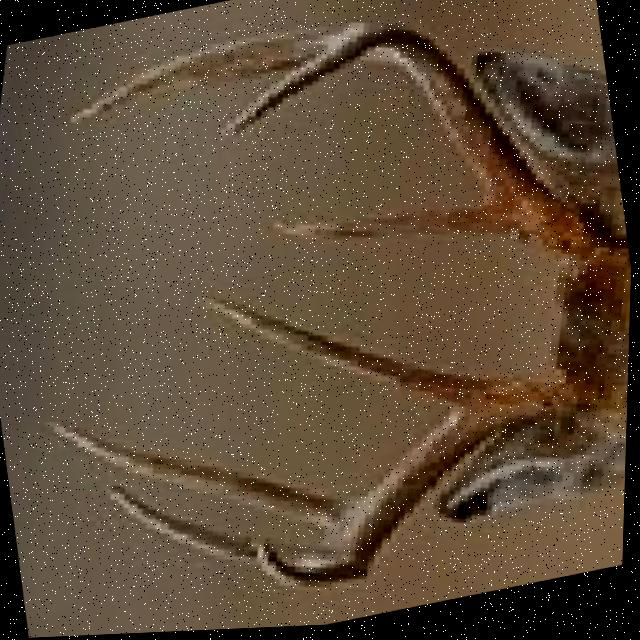L-F: (220, 27, 631, 278)
L-G1: (272, 210, 531, 245)
R-F: (257, 379, 580, 594)
R-G1: (205, 301, 494, 410)
R-G2: (46, 421, 355, 532)
